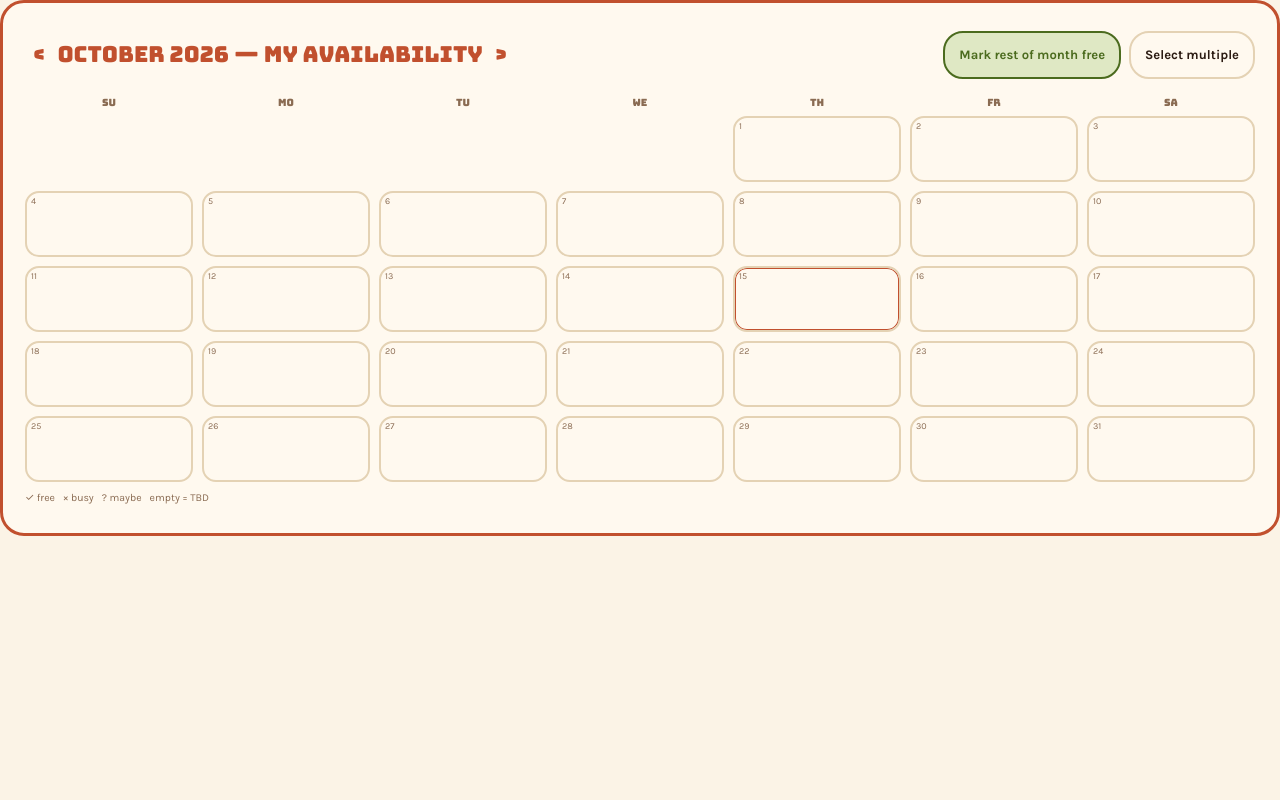
Test: bulk marking › leaves bulk mode after applying
The image size is (1280, 800).
Click the button "Select multiple": {"x": 1192, "y": 55} [1129,31,1255,78]
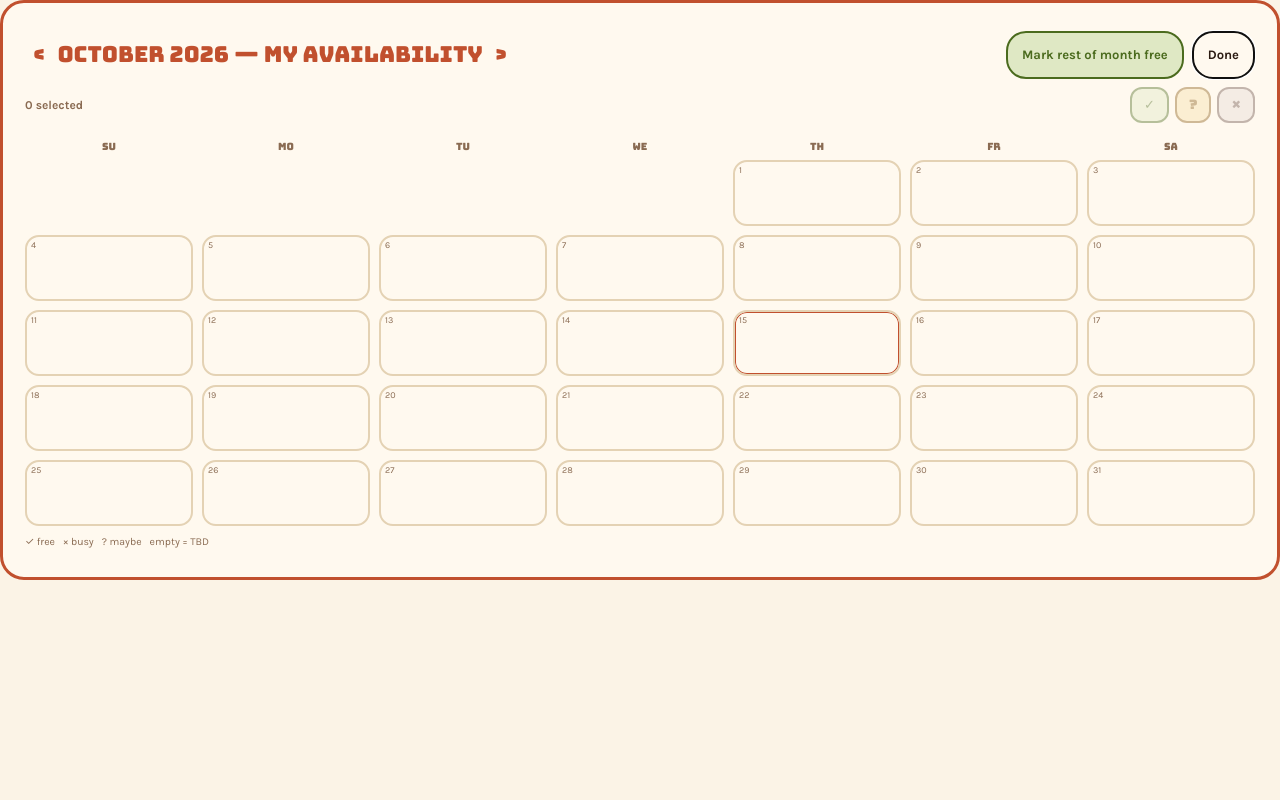
Click the button "16": {"x": 994, "y": 342} [910,310,1078,376]
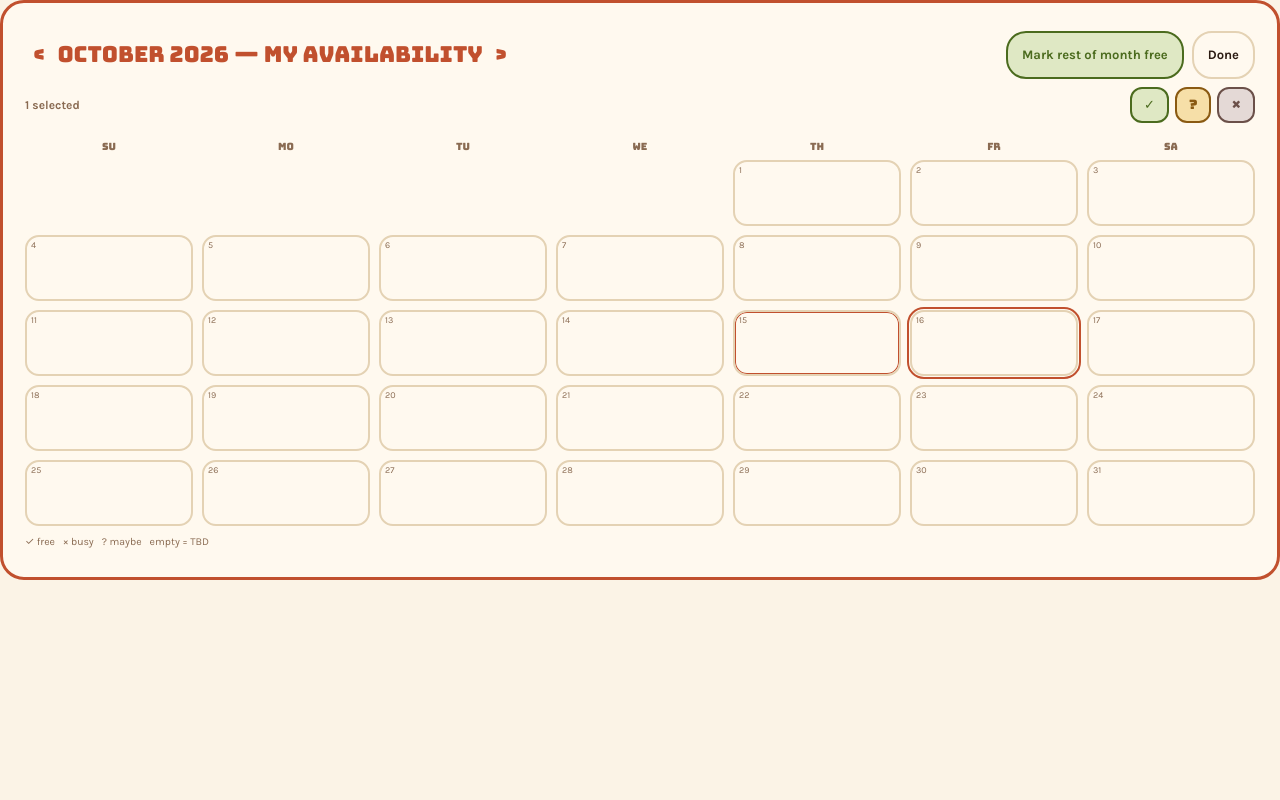
Click the button named "Mark selected available": {"x": 1149, "y": 104} [1130,86,1169,122]
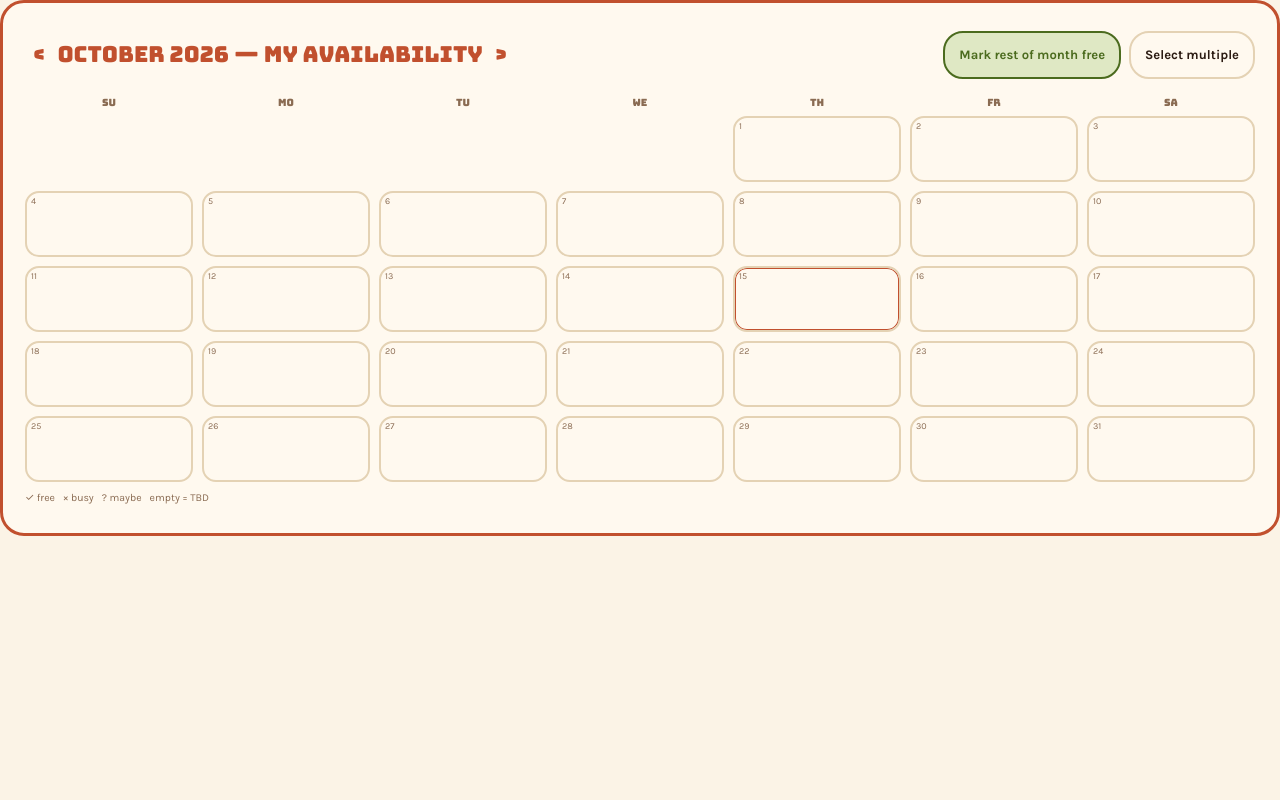
Expected: the button "Select multiple" is shown, [1129,31,1255,78]
